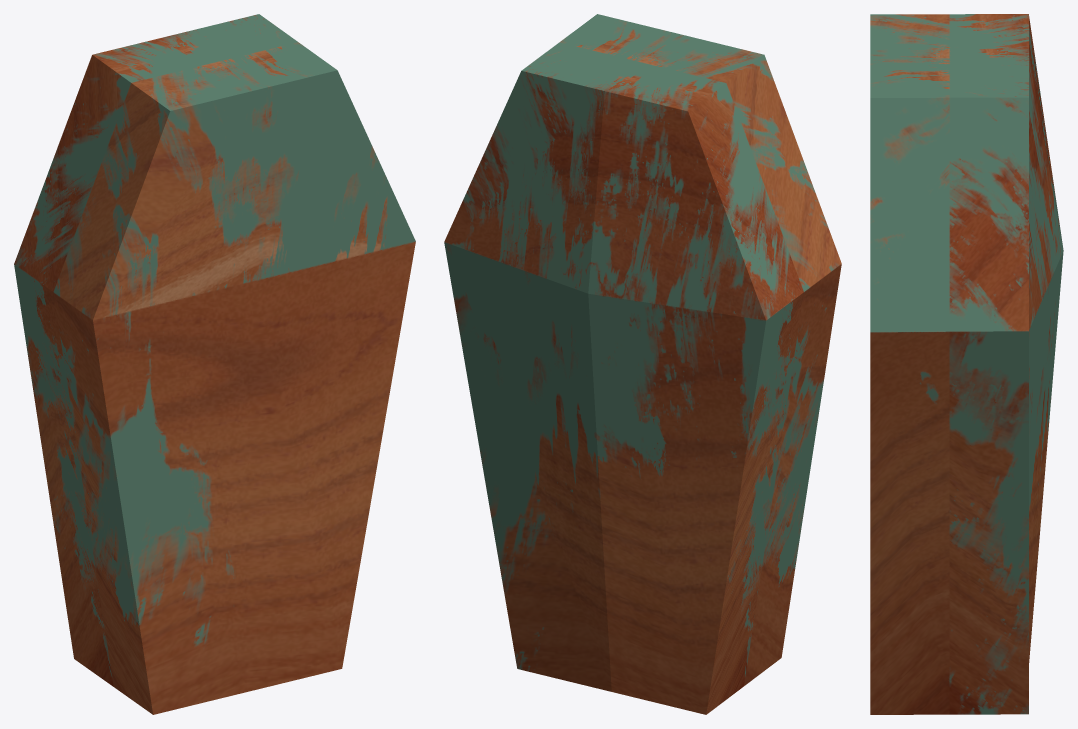
Rendered from ClosedCasket_Ready.fbx.
3 views of the same model, side by side, from view 1: azimuth 30°, elevation 25°; view 2: azimuth 150°, elevation 25°; view 3: azimuth 270°, elevation 25° (orthographic). The views are drawn at different scales.
Parts seen in each view (by area): view 1: closed Casket; view 2: closed Casket; view 3: closed Casket.
Part boxes in pixels (box(x1,y1,x2,y2)): closed Casket: box(14, 14, 415, 714); closed Casket: box(444, 14, 841, 714); closed Casket: box(870, 14, 1063, 714).
Bounding box in the file's own units: 236 × 416 × 118.
